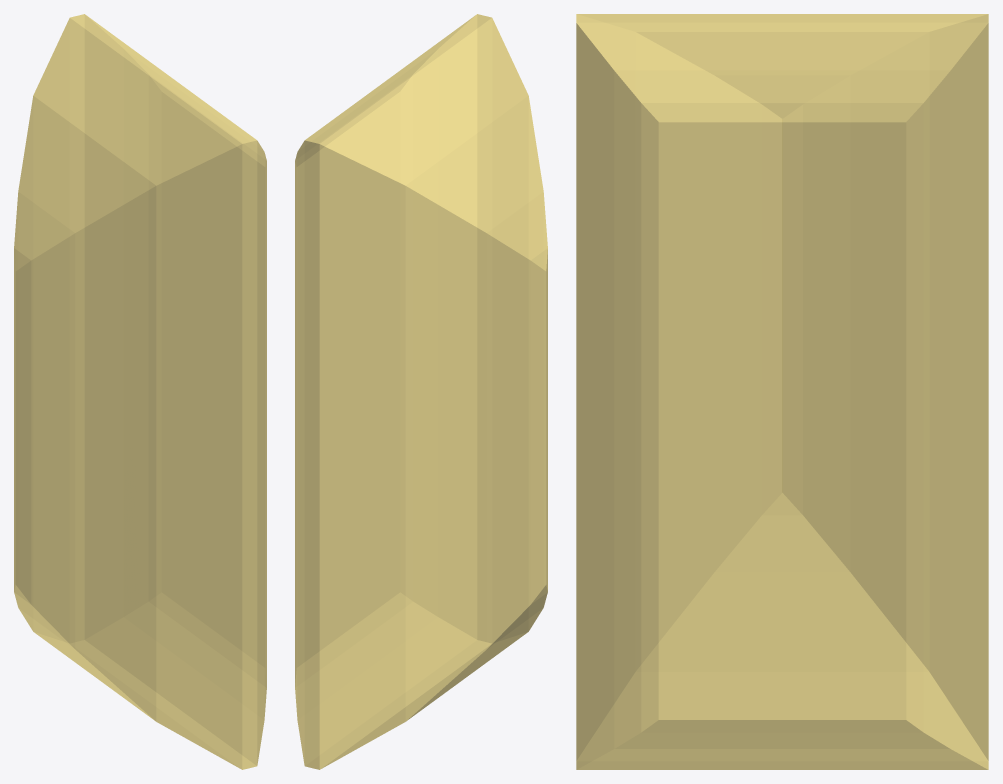
The model's file is baguette saphire jaune.glb.
3 views of the same model, side by side, from view 1: azimuth 30°, elevation 25°; view 2: azimuth 150°, elevation 25°; view 3: azimuth 270°, elevation 25° (orthographic). The views are drawn at different scales.
Parts seen in each view (by area): view 1: uploads_files_895467_baguette; view 2: uploads_files_895467_baguette; view 3: uploads_files_895467_baguette.
Part boxes in pixels (x1=…): uploads_files_895467_baguette: x1=14, y1=14, x2=266, y2=769; uploads_files_895467_baguette: x1=295, y1=14, x2=547, y2=769; uploads_files_895467_baguette: x1=576, y1=14, x2=988, y2=769.
Bounding box in the file's own units: 0.6654 × 2.01 × 1.01.
